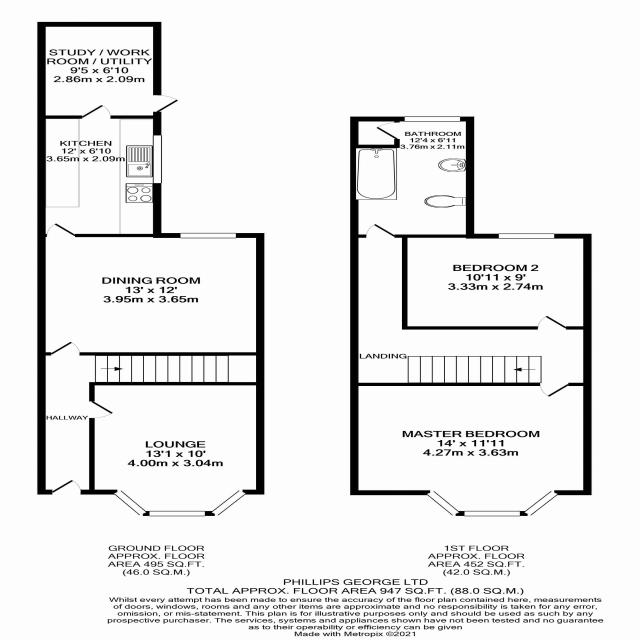DOOR: (89, 397, 120, 423), (45, 477, 84, 495), (76, 101, 114, 119), (536, 382, 576, 399), (46, 339, 85, 356), (153, 93, 183, 115), (534, 313, 570, 330), (43, 221, 78, 238), (362, 222, 399, 238)
ROOM: (350, 382, 592, 517), (37, 218, 265, 356), (89, 382, 264, 516), (402, 233, 592, 329), (36, 99, 163, 238)
WINDOW: (420, 488, 564, 518), (109, 488, 250, 518), (149, 131, 166, 188), (175, 230, 239, 241), (402, 114, 464, 123), (497, 232, 556, 240)
